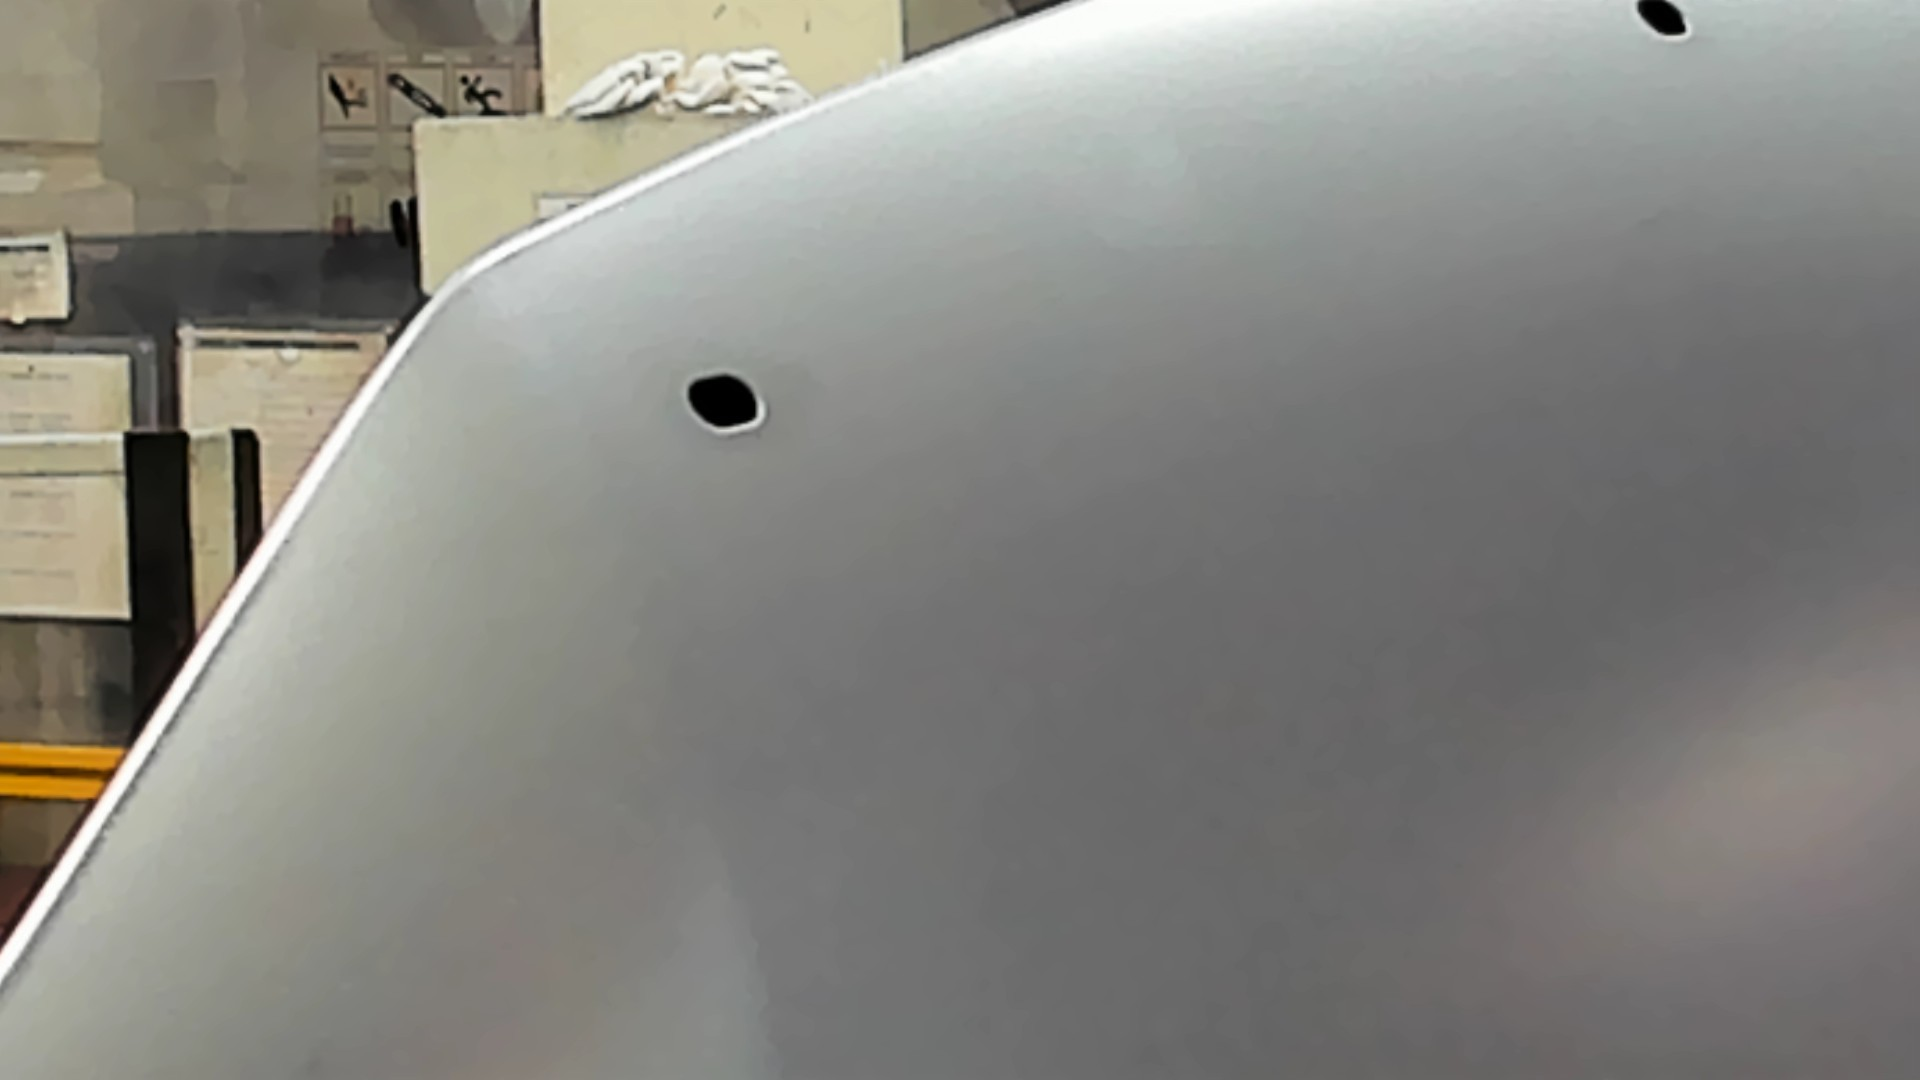amorfo: (674, 369, 779, 444), (1627, 1, 1701, 47)
capo: (880, 115, 1920, 1080)
